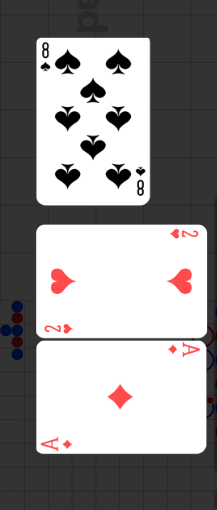2H: (43, 322, 75, 335)
8S: (39, 41, 51, 74)
AD: (40, 435, 75, 451)
